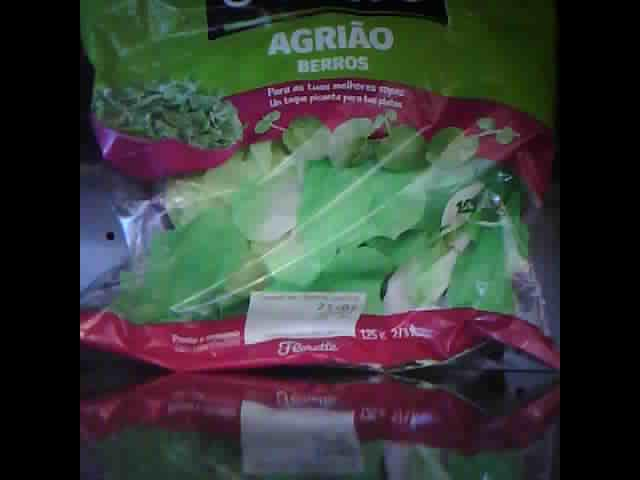florette: (81, 5, 553, 372)
